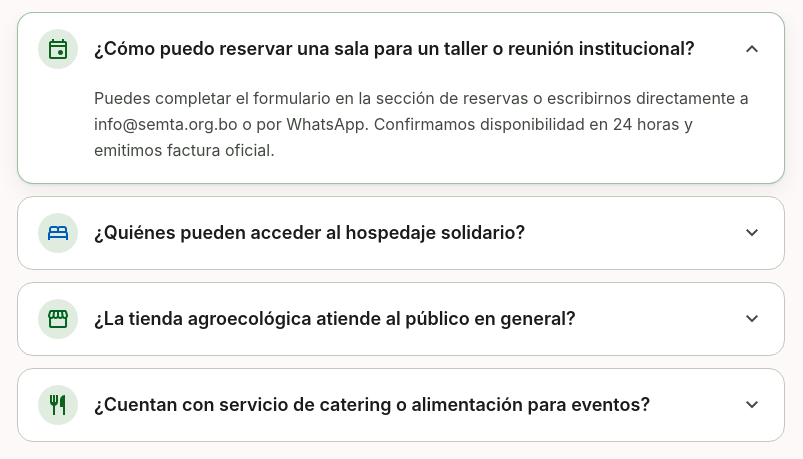
CasaFaq › abre y cierra las preguntas al hacer click
Click the 1st button.
click(401, 49)  # box x1=18 y1=13 x2=784 y2=85
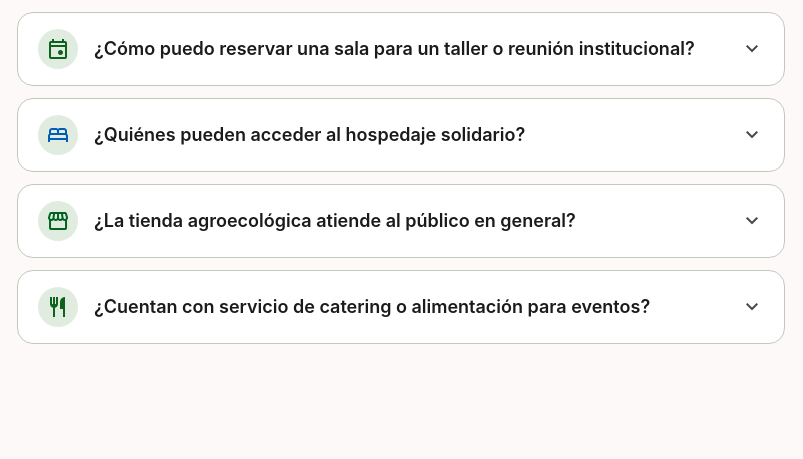
Result: the 1st button is collapsed
Click the 1st button.
click(401, 49)  # box x1=18 y1=13 x2=784 y2=85
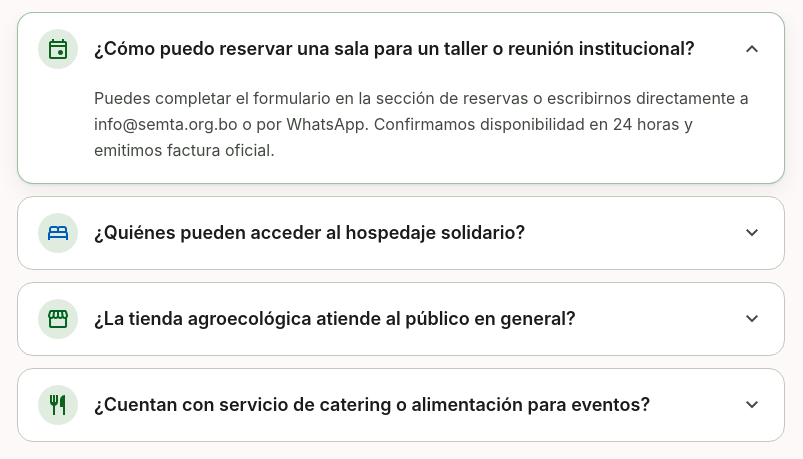
Result: the 1st button is expanded at x1=18 y1=13 x2=784 y2=85
